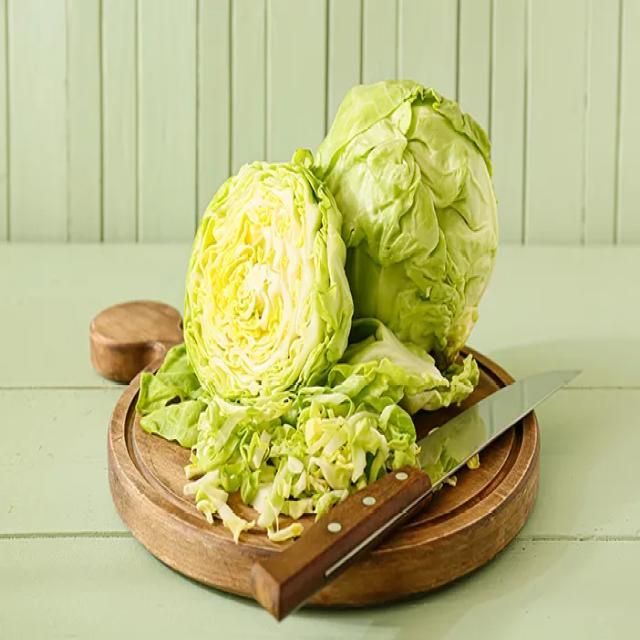Organik: (316, 70, 521, 357), (140, 352, 478, 489), (178, 146, 356, 382)
